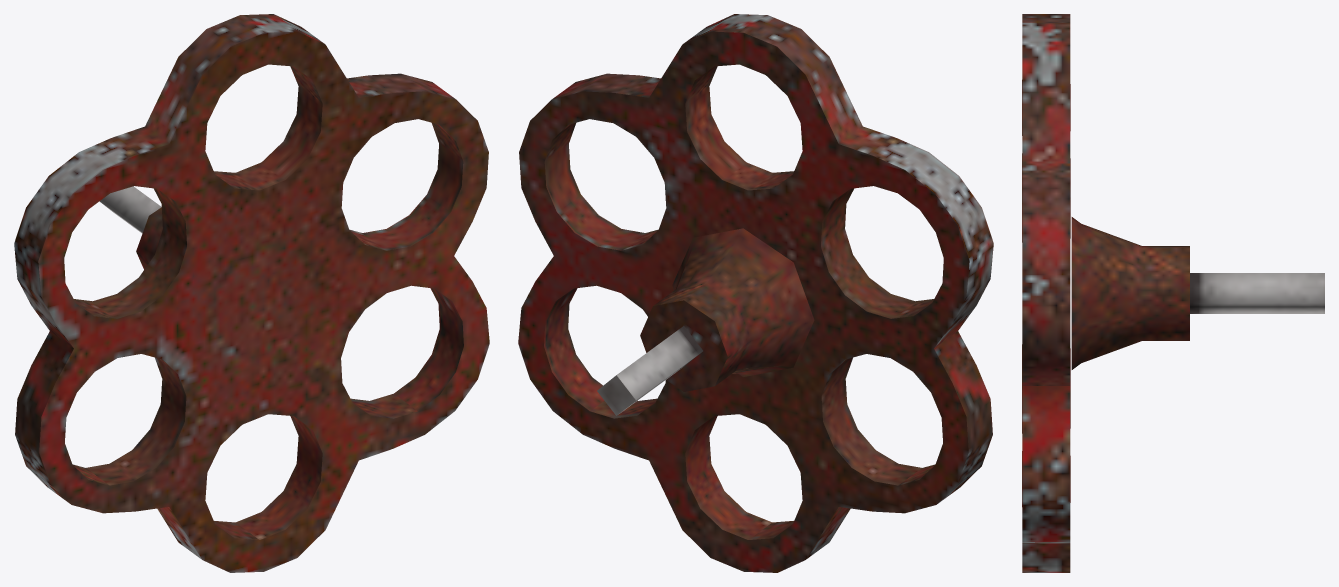
Rendered from NM_ThinTube_Valve.fbx.
3 views of the same model, side by side, from view 1: azimuth 30°, elevation 25°; view 2: azimuth 150°, elevation 25°; view 3: azimuth 270°, elevation 25° (orthographic).
Parts seen in each view (by area): view 1: Tube_tapholder_low; view 2: Tube_tapholder_low; view 3: Tube_tapholder_low.
Boxes of the visible parts, x1=… form: Tube_tapholder_low: x1=14, y1=14, x2=489, y2=572; Tube_tapholder_low: x1=518, y1=14, x2=993, y2=572; Tube_tapholder_low: x1=1022, y1=14, x2=1324, y2=572.
Size of the model in its own units: 16.75 by 19.1 by 9.75.
